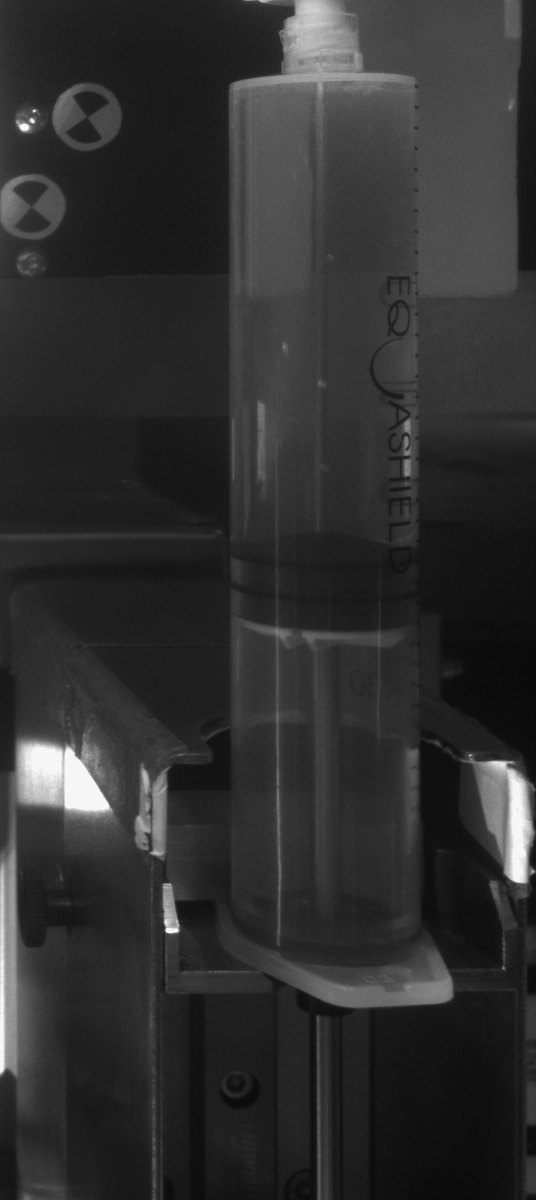piston: (230, 555, 422, 650)
